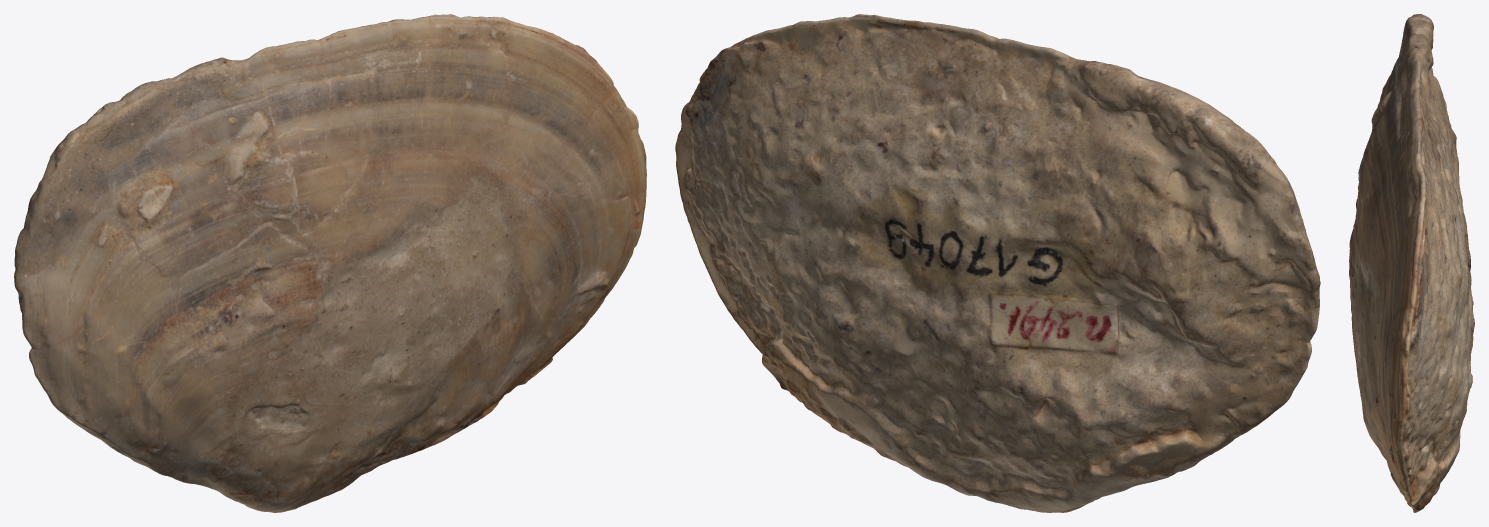
File: EWS0012649.glb
3 renders of one model, left to right at view 1: azimuth 30°, elevation 25°; view 2: azimuth 150°, elevation 25°; view 3: azimuth 270°, elevation 25°, orthographic. The views are drawn at different scales.
Visible parts, largest first — view 1: input; view 2: input; view 3: input.
Part boxes in pixels (box(x1,y1,x2,y2)): input: box(14, 14, 646, 512); input: box(675, 14, 1320, 512); input: box(1349, 14, 1474, 512).
Size of the model in its own units: 0.0654 by 0.0456 by 0.0132.
Materials: 1 (1 with a texture image).
